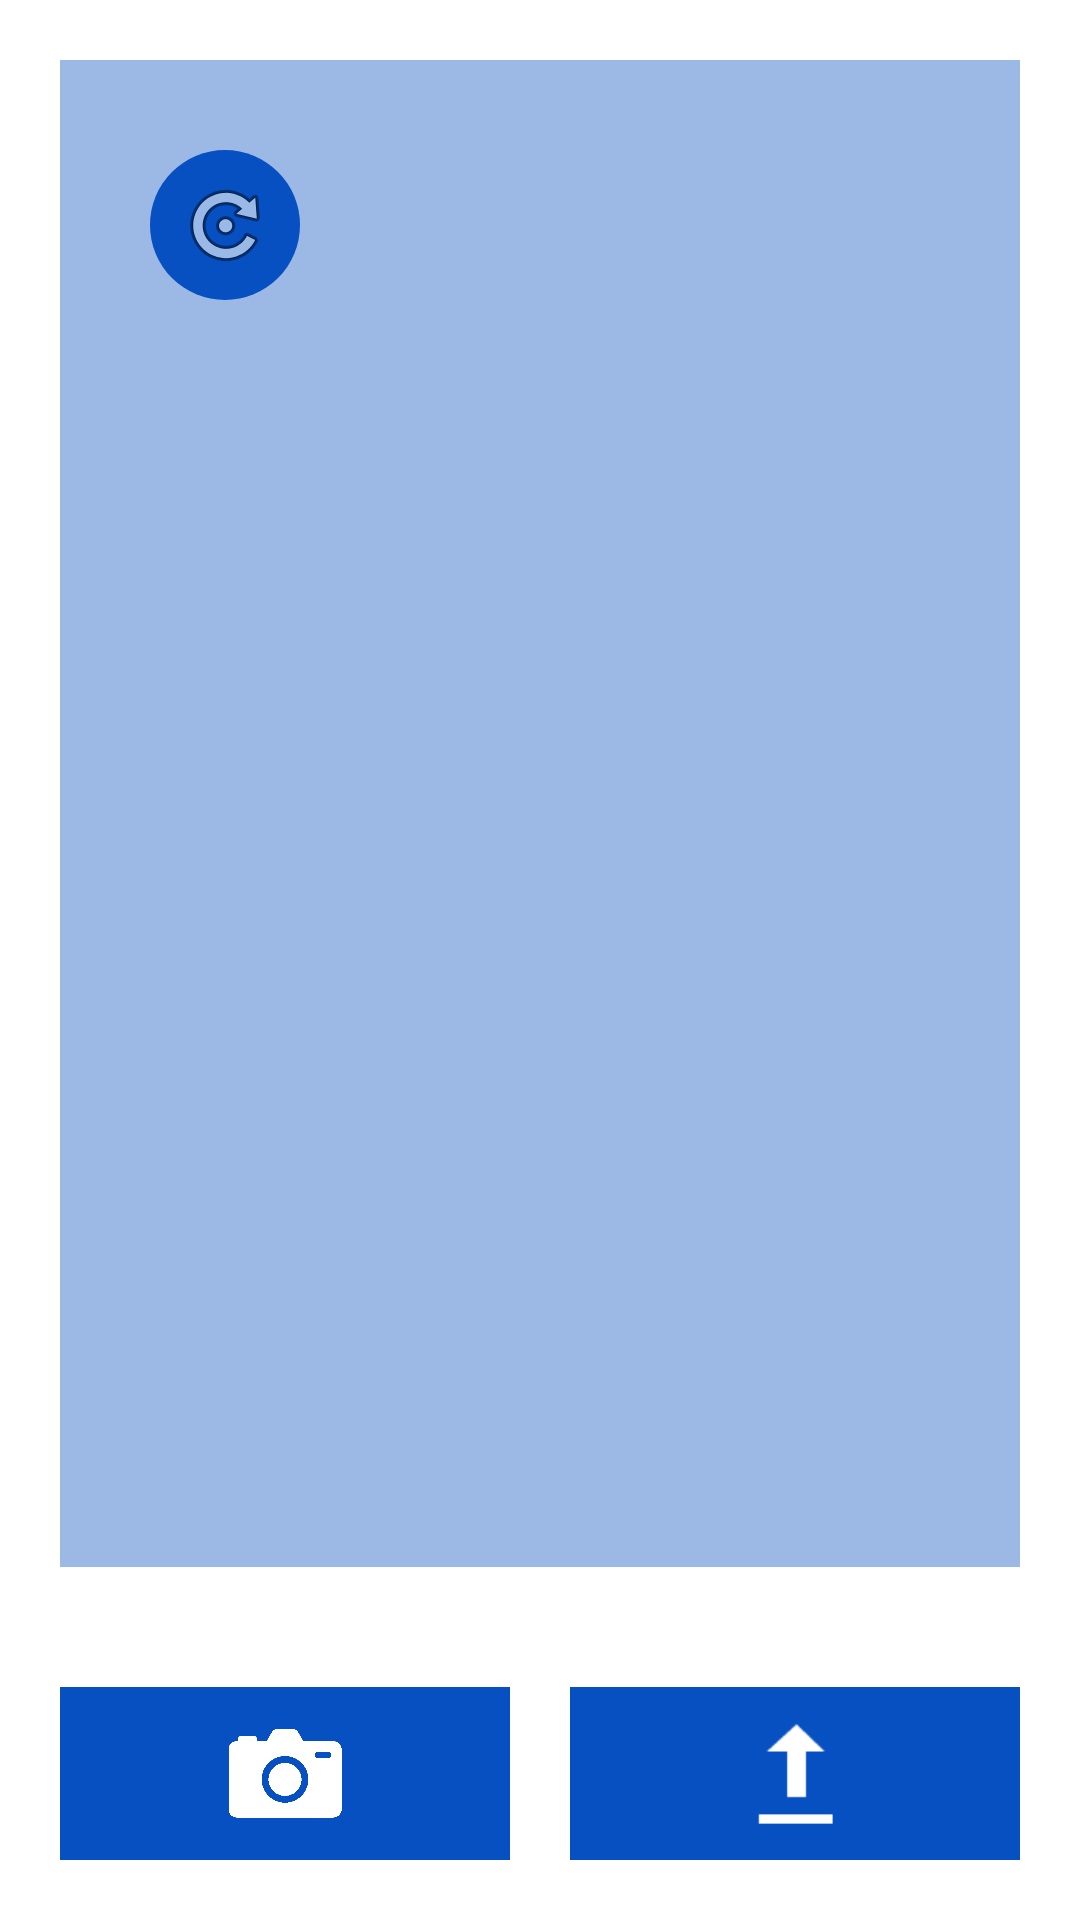

Locate icon controls on the screen. Image size 1080px x 1920px, boxes as (x1, y1, x2, y2).
rotate: (150, 150, 300, 300)
